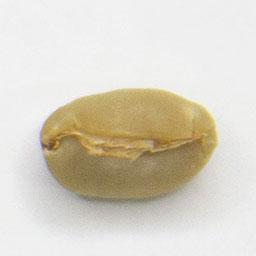premium: (37, 85, 221, 203)
